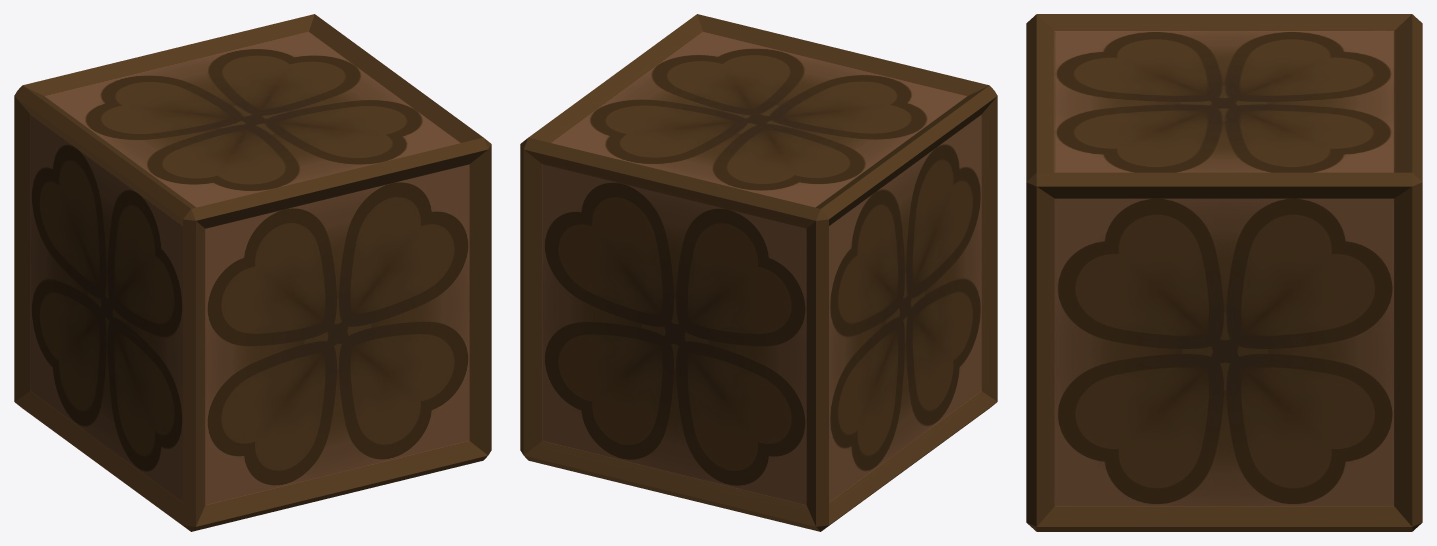
The model's file is clover_box.glb.
3 renders of one model, left to right at view 1: azimuth 30°, elevation 25°; view 2: azimuth 150°, elevation 25°; view 3: azimuth 270°, elevation 25°, orthographic. The views are drawn at different scales.
Visible parts, largest first — view 1: Cube; view 2: Cube; view 3: Cube.
Part boxes in pixels (<box>): Cube: <box>14,14,491,531</box>; Cube: <box>520,14,997,531</box>; Cube: <box>1026,14,1422,531</box>.
Bounding box in the file's own units: 0.3 × 0.3 × 0.3.
1 material, 1 textured.
